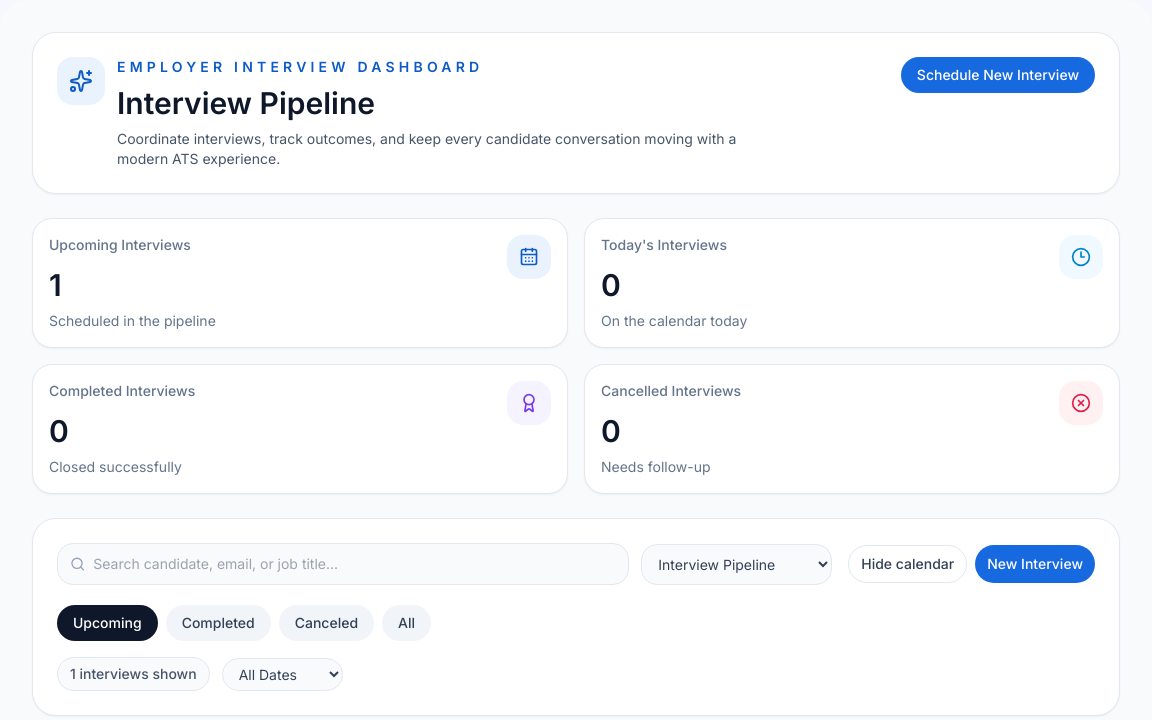
Test case: EmployerInterviews › renders interviews and opens the scheduling modal
Expected: the button "Upcoming" is shown, left=57, top=605, right=158, bottom=641
Click the button "Schedule New Interview" at (998, 75), box left=901, top=57, right=1095, bottom=93
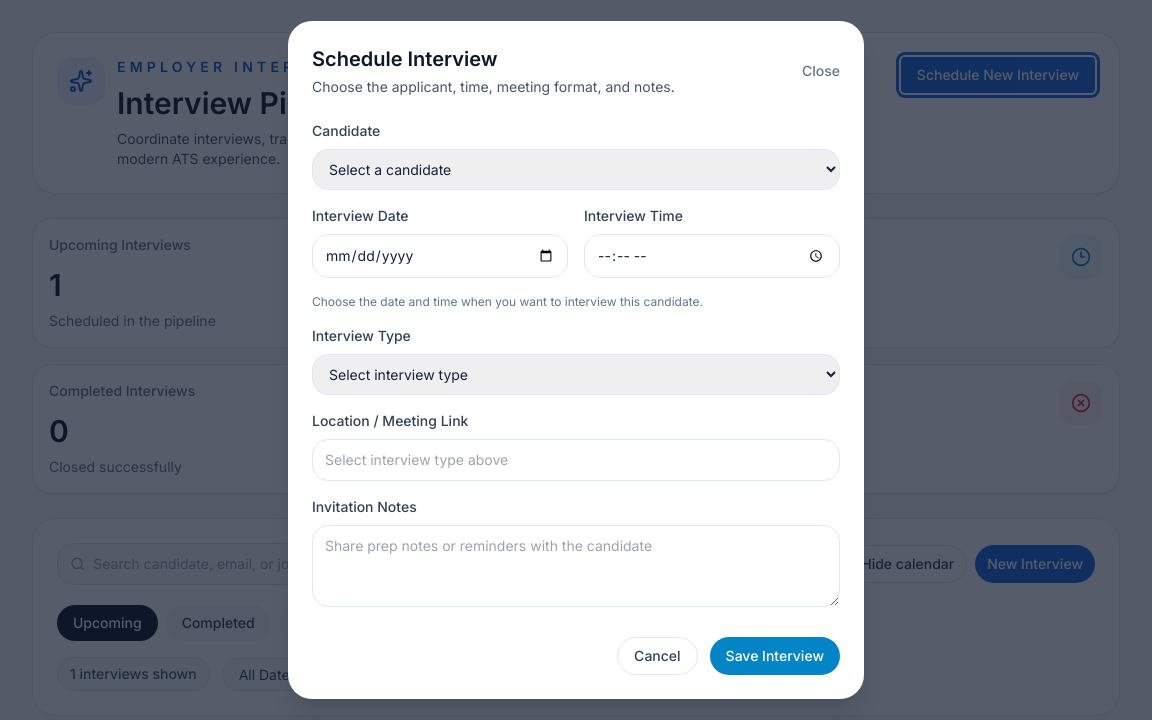
Result: the heading "Schedule Interview" is shown at left=312, top=47, right=498, bottom=71
Result: the dropdown labelled "Candidate" is shown at left=312, top=149, right=840, bottom=190
